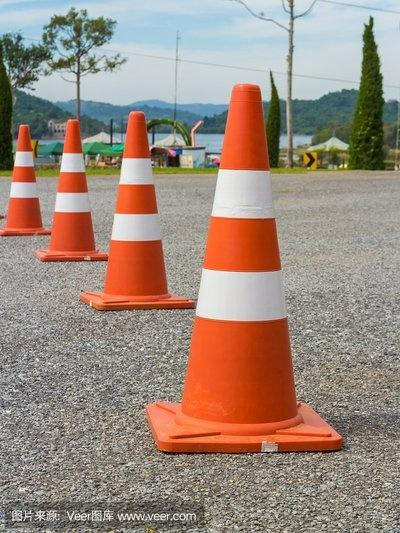cone_barrel: (162, 82, 310, 441), (89, 111, 182, 302), (41, 120, 99, 258)
